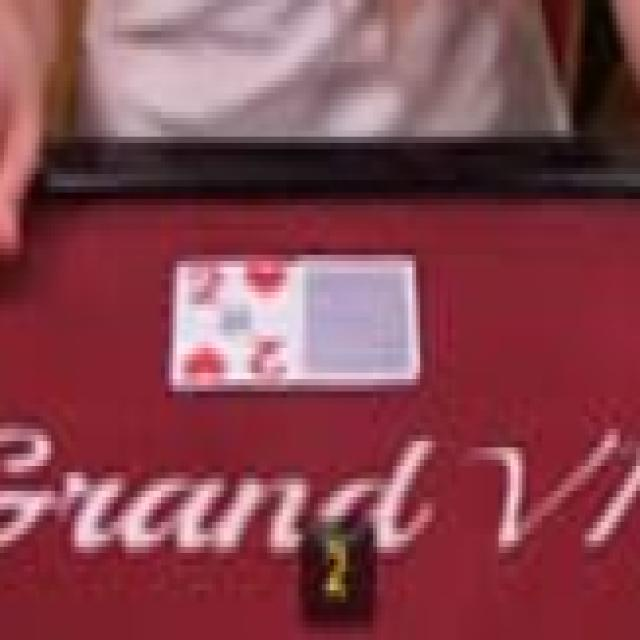Card-2: (172, 254, 305, 392)
